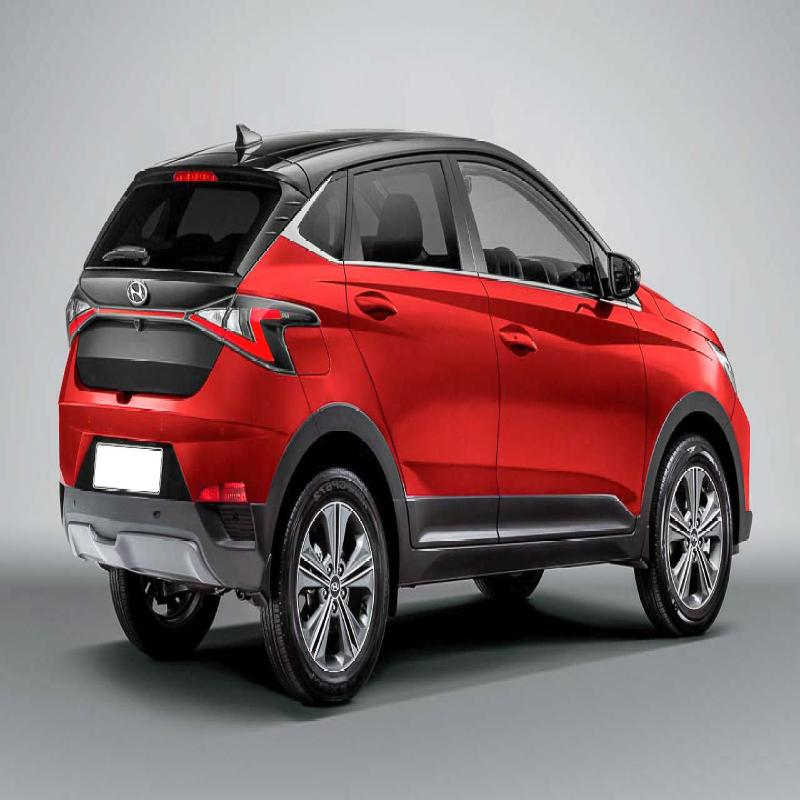car: (62, 136, 745, 677)
